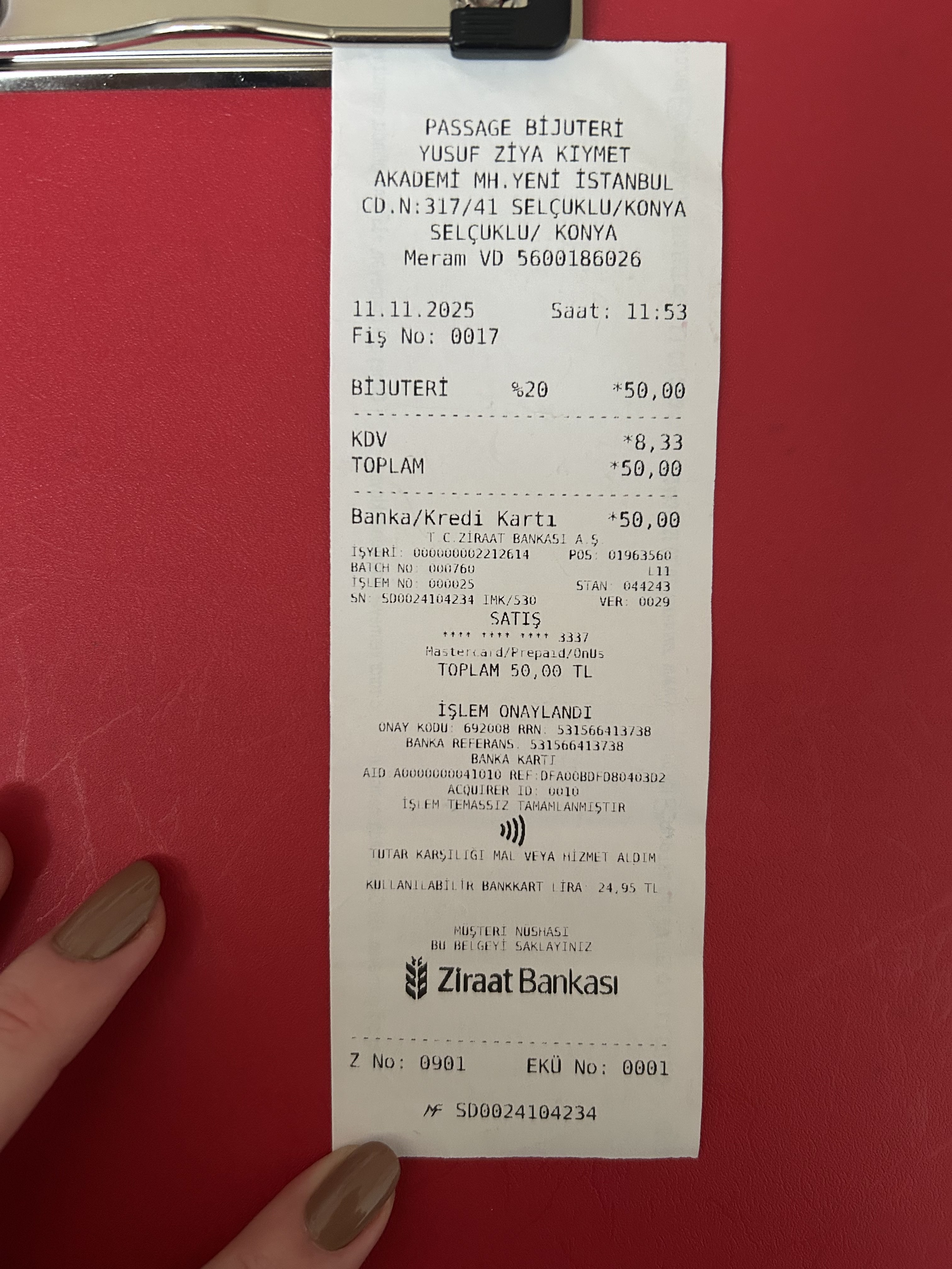date: (349, 290, 482, 321)
price: (617, 506, 687, 534)
workplace: (348, 108, 702, 246)
